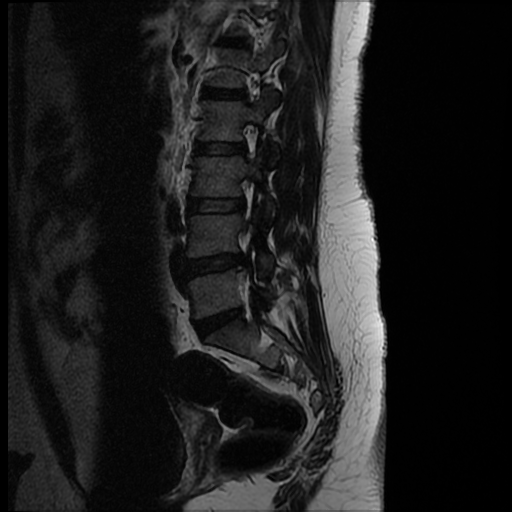LFS0: (229, 115, 269, 168), (232, 59, 270, 109)
